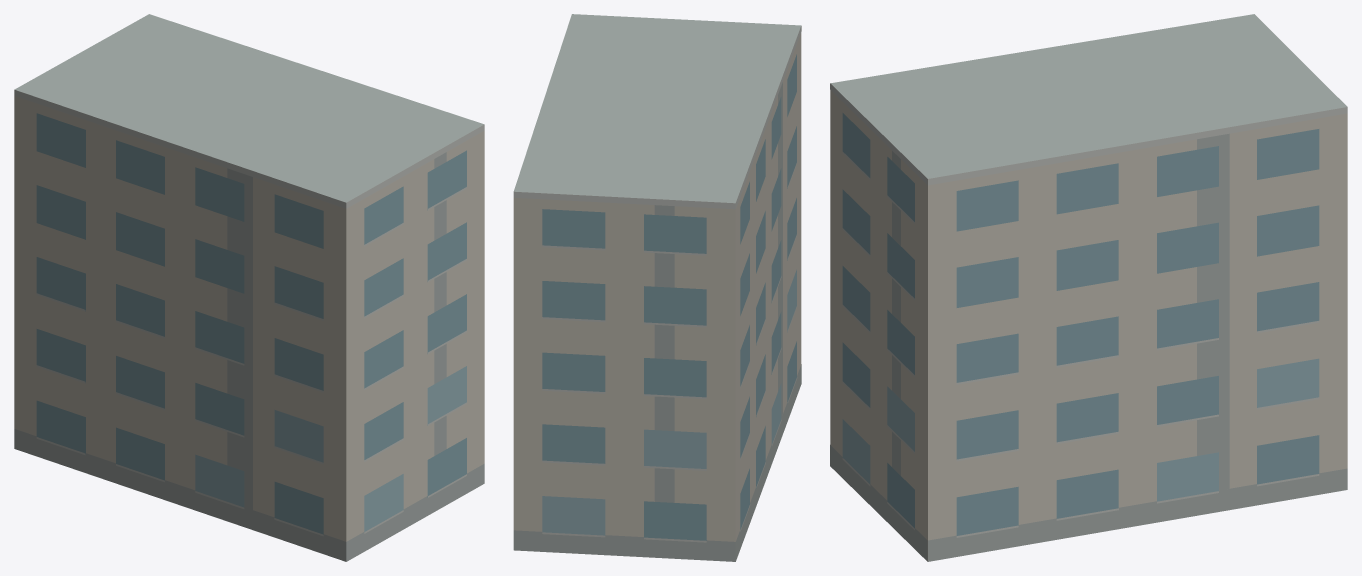
The model's file is survey-upis-32892536.glb.
3 views of the same model, side by side, from view 1: azimuth 30°, elevation 25°; view 2: azimuth 150°, elevation 25°; view 3: azimuth 270°, elevation 25° (orthographic). The views are drawn at different scales.
Parts seen in each view (by area): view 1: survey-upis-32892536.tmp; view 2: survey-upis-32892536.tmp; view 3: survey-upis-32892536.tmp.
Part boxes in pixels (left/top/right/bottom): survey-upis-32892536.tmp: left=14, top=14, right=484, bottom=561; survey-upis-32892536.tmp: left=513, top=14, right=801, bottom=561; survey-upis-32892536.tmp: left=830, top=14, right=1347, bottom=561.
Bounding box in the file's own units: 13.32 × 14.4 × 17.65.
